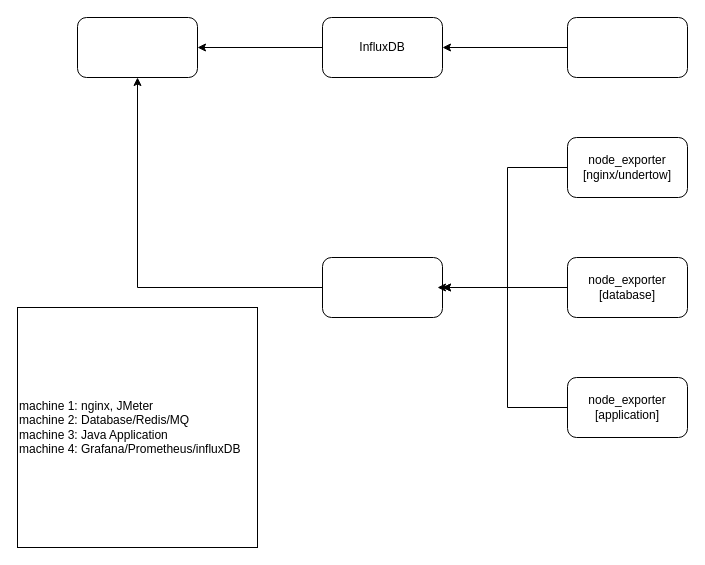
Image size: 705x565. Some labels were removed from this diagram. Here are the shapes that lost their labels. From the top down, the centre of each, then its label:
At [137,47]: "Grafana".
At [627,47]: "JMeter Results".
At [382,287]: "Prometheus".
